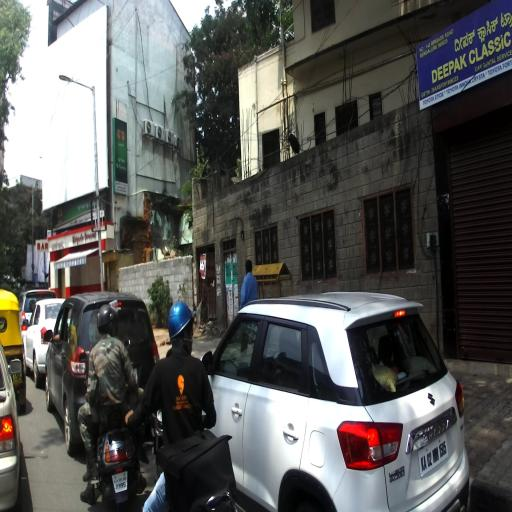street_light_0: (58, 73, 95, 95)
